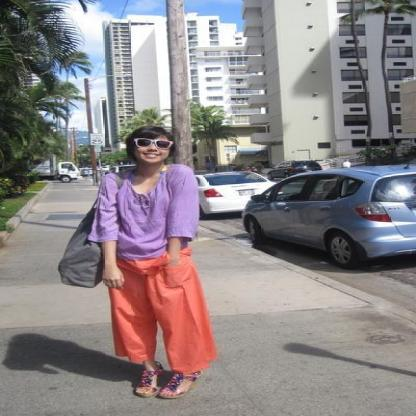bag: (58, 208, 112, 287)
pants: (106, 254, 215, 373)
shirt: (89, 164, 211, 260)
shoe: (120, 363, 200, 397)
